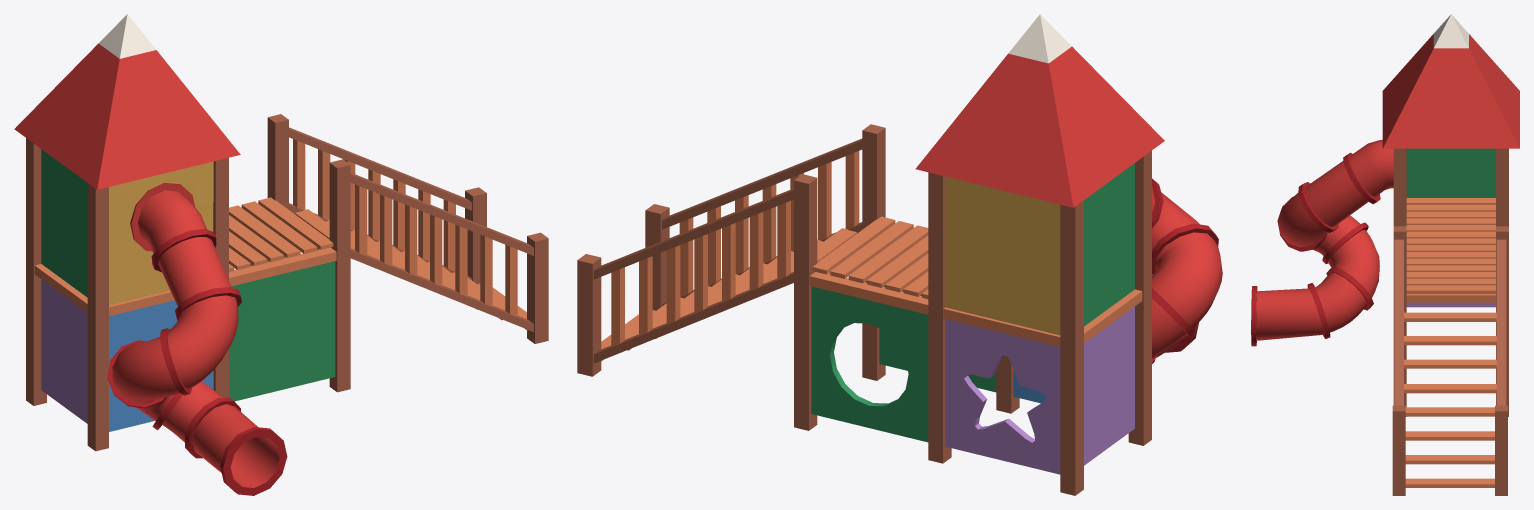
The model's file is Castle_01.fbx.
The picture shows the model from 3 angles, left to right: view 1: azimuth 30°, elevation 25°; view 2: azimuth 150°, elevation 25°; view 3: azimuth 270°, elevation 25°; orthographic projection. The views are drawn at different scales.
Parts seen in each view (by area): view 1: Castle_01; view 2: Castle_01; view 3: Castle_01.
Part boxes in pixels (box(x1,y1,x2,y2)): Castle_01: box(14, 14, 548, 495); Castle_01: box(577, 14, 1222, 495); Castle_01: box(1251, 14, 1519, 495).
Bounding box in the file's own units: 5.5 × 4.44 × 3.31.
